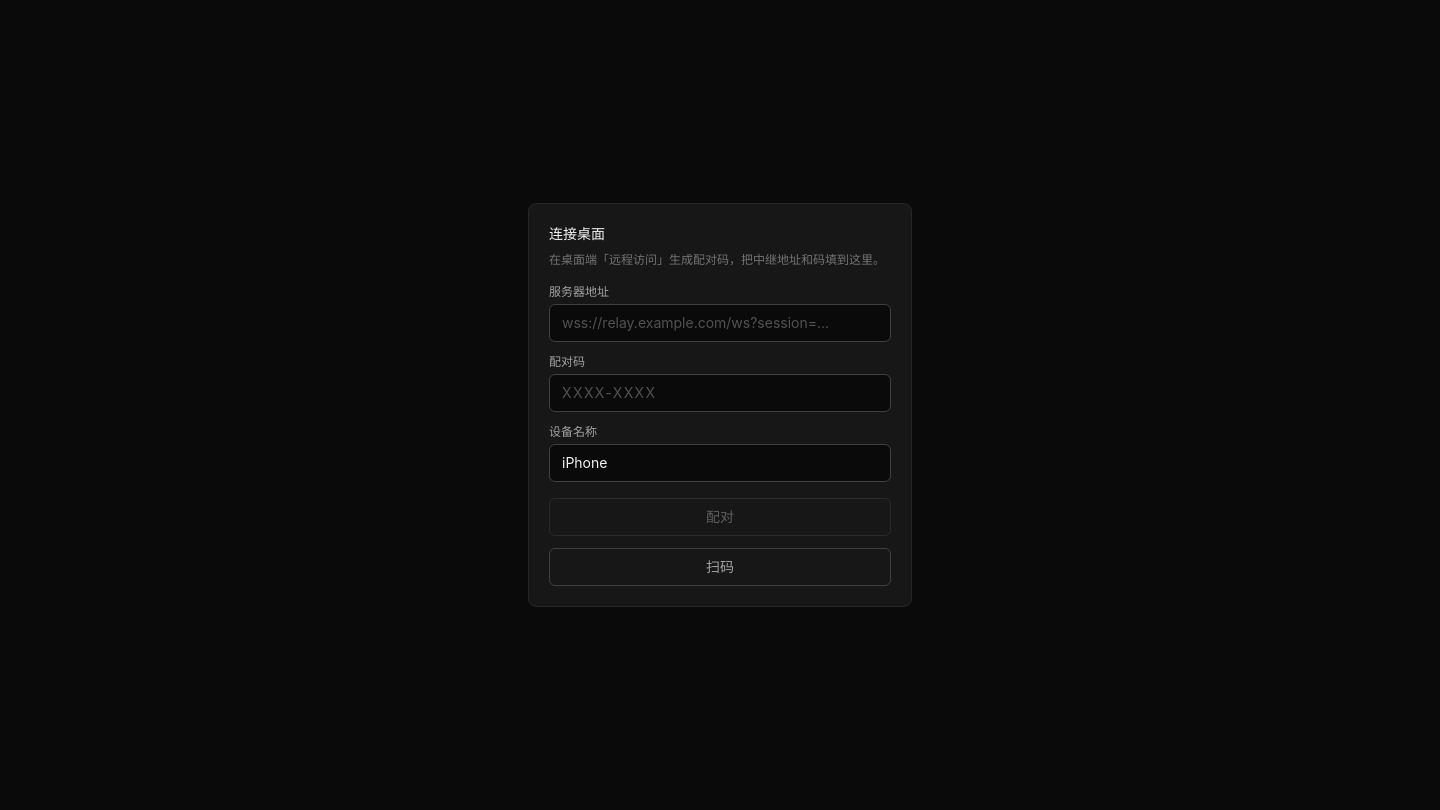
PairingScreen QR scan › keeps the scanner's exit inside the phone safe area
Click the button "扫码": (720, 567) [549,548,891,586]
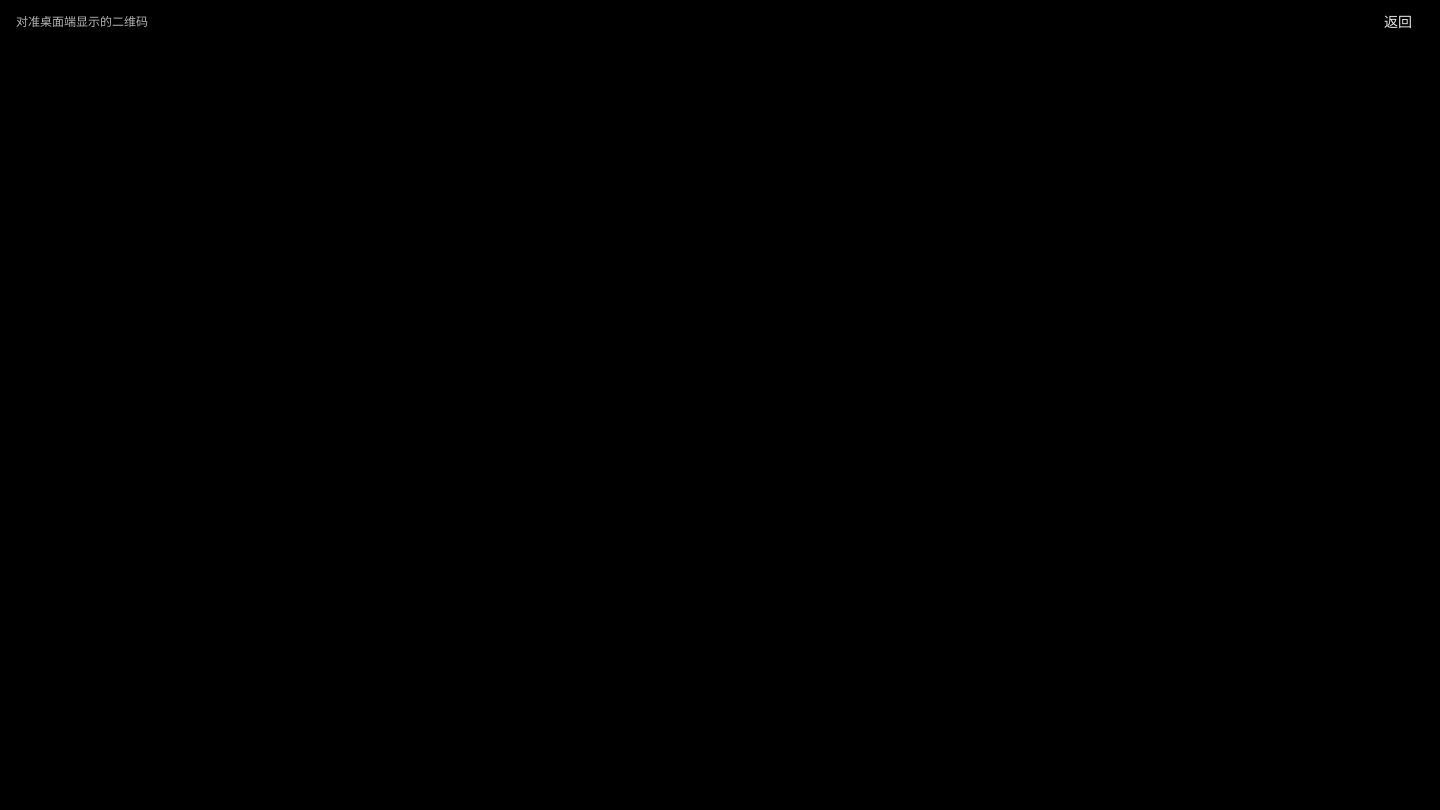
expect the element showing "对准桌面端显示的二维码 返回" is shown: met, box [0,0,1439,56]
